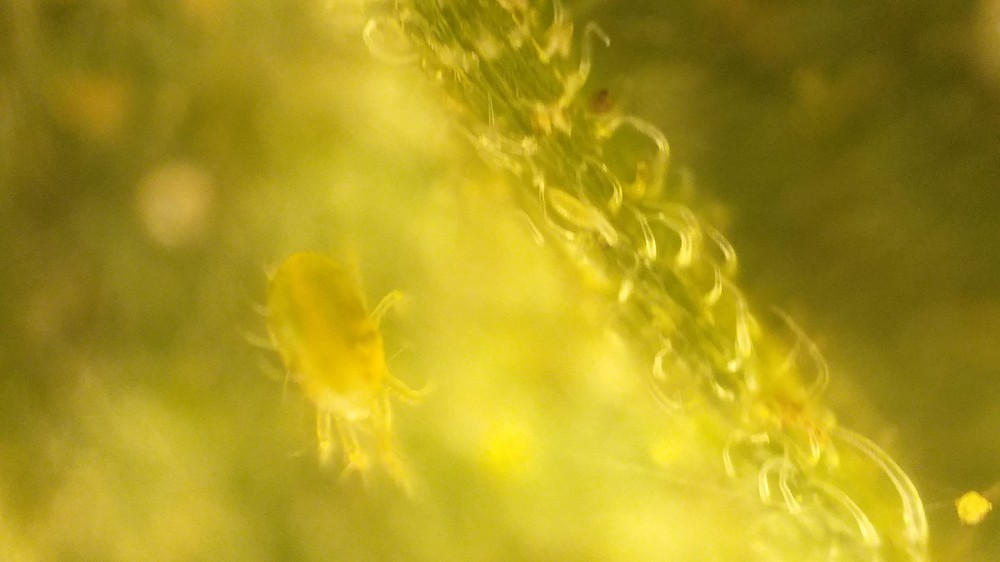Aracnido Rojo: (211, 232, 483, 519)
